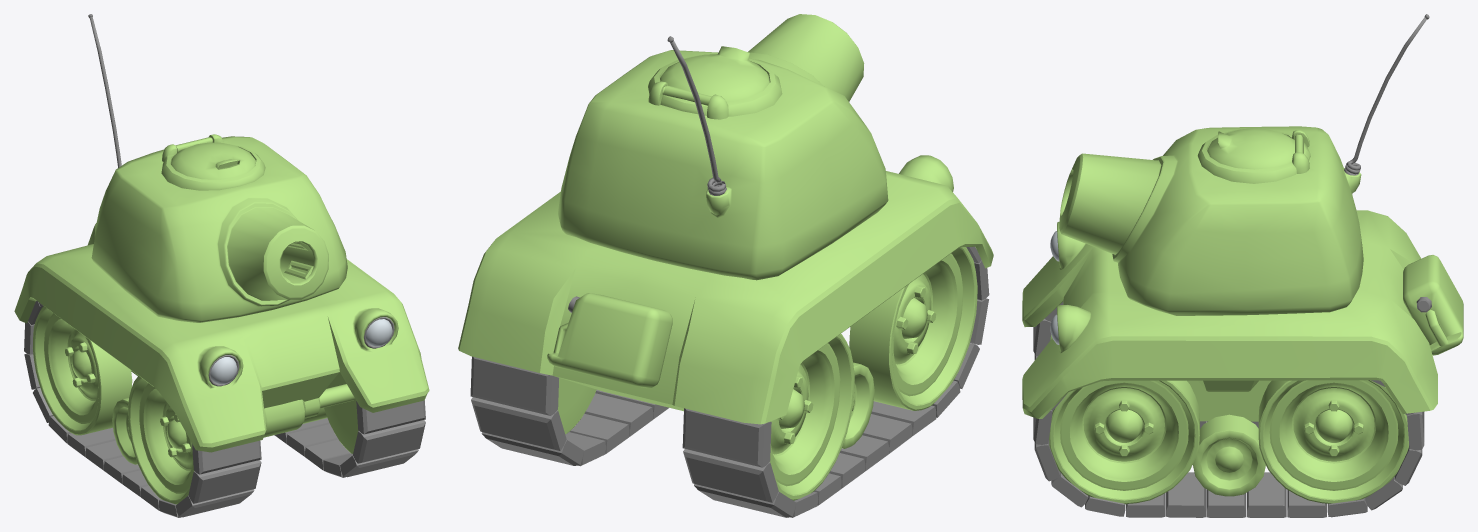
The model's file is ScriptTank.fbx.
The picture shows the model from 3 angles, left to right: view 1: azimuth 30°, elevation 25°; view 2: azimuth 150°, elevation 25°; view 3: azimuth 270°, elevation 25°; orthographic projection. The views are drawn at different scales.
Parts seen in each view (by area): view 1: TankChassis, TankTurret, TankTracksRight, TankTracksLeft; view 2: TankChassis, TankTurret, TankTracksRight, TankTracksLeft; view 3: TankChassis, TankTurret, TankTracksLeft, TankTracksRight.
Part boxes in pixels (bbox=[...]): TankChassis: bbox=[14, 223, 429, 464]; TankTurret: bbox=[88, 14, 347, 322]; TankTracksRight: bbox=[24, 301, 261, 517]; TankTracksLeft: bbox=[274, 372, 425, 477]; TankChassis: bbox=[458, 155, 993, 448]; TankTurret: bbox=[558, 14, 888, 280]; TankTracksRight: bbox=[682, 246, 989, 517]; TankTracksLeft: bbox=[470, 356, 668, 466]; TankChassis: bbox=[1022, 210, 1463, 496]; TankTurret: bbox=[1059, 14, 1429, 315]; TankTracksLeft: bbox=[1033, 380, 1424, 517]; TankTracksRight: bbox=[1033, 302, 1258, 428].
Size of the model in its own units: 170 by 249 by 237.
